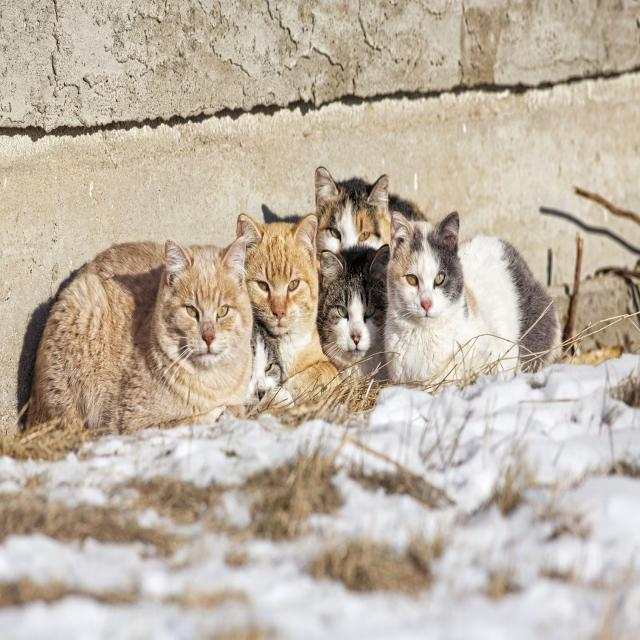cat: (28, 238, 252, 433), (384, 212, 560, 381), (238, 214, 338, 407), (315, 167, 426, 256), (318, 244, 390, 379)
